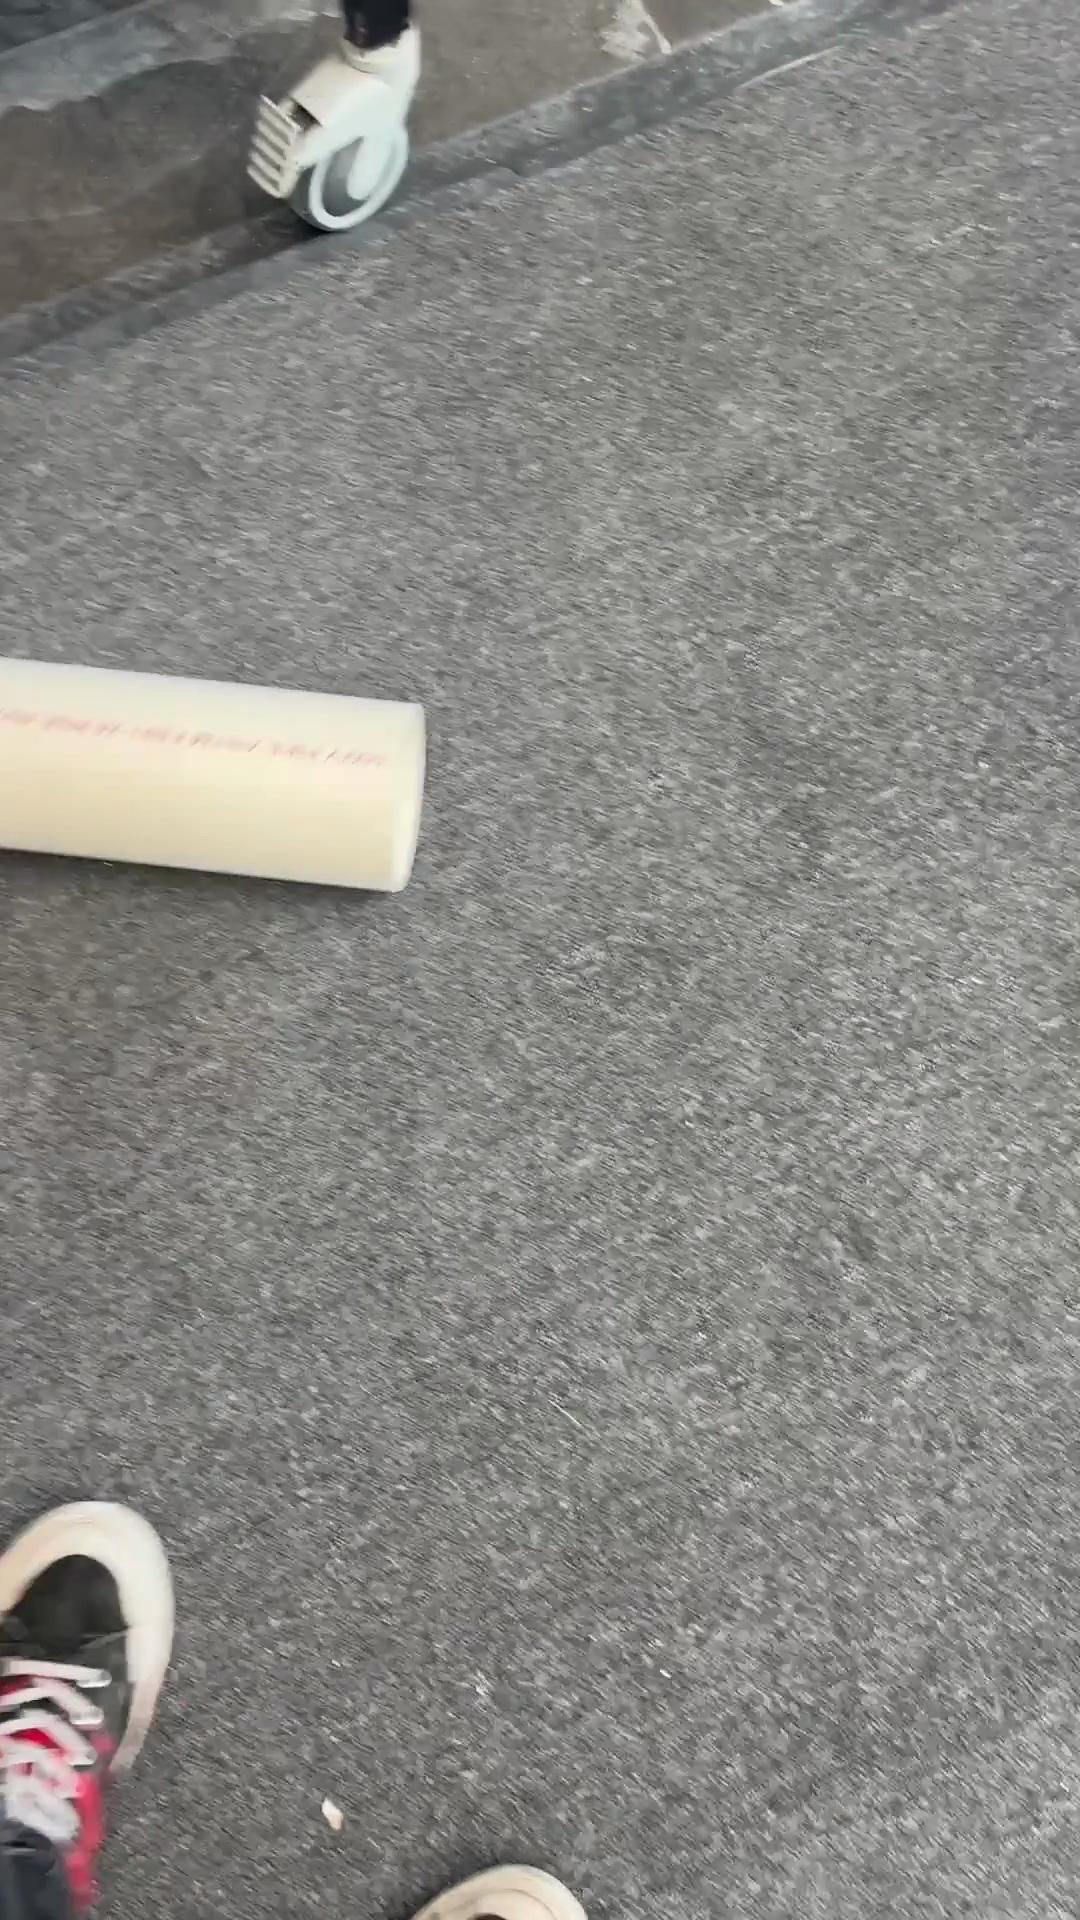CORAL: (1, 652, 427, 894), (244, 19, 422, 233)
